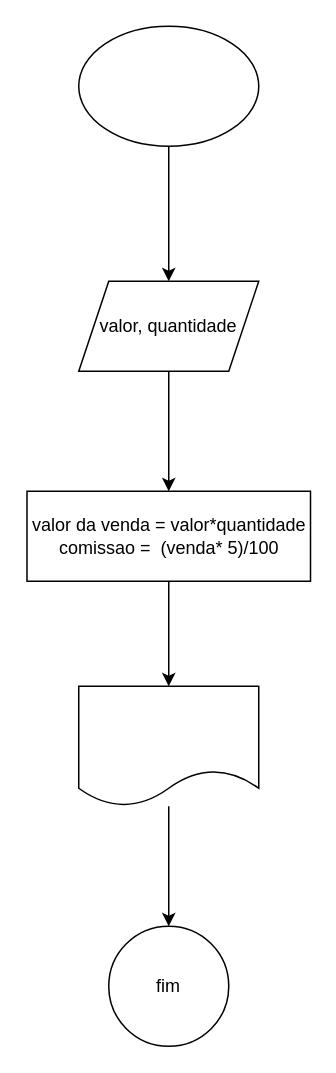
Image size: 336x1073. Some labels were removed from this diagram. The shapes that lost their labels are listed below. From the top down, each one's centre as x and y in pixels, then its label:
At point (168, 85): "inicio".
At point (168, 745): "comissao".
